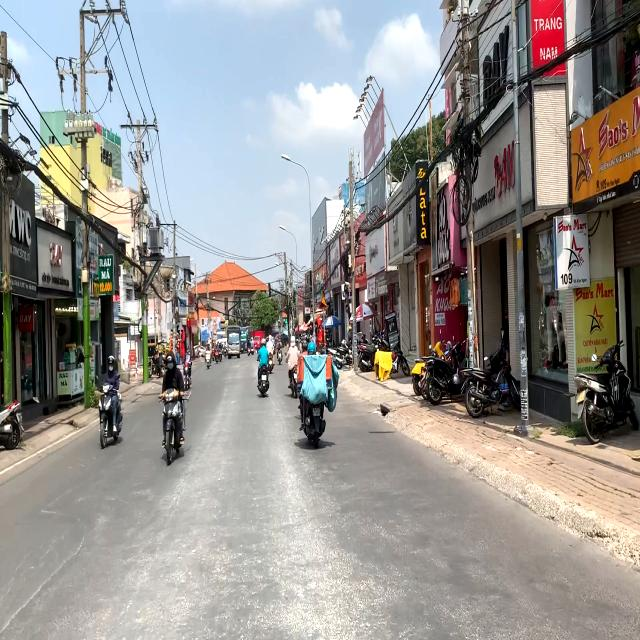W.219: (318, 295, 328, 309)
